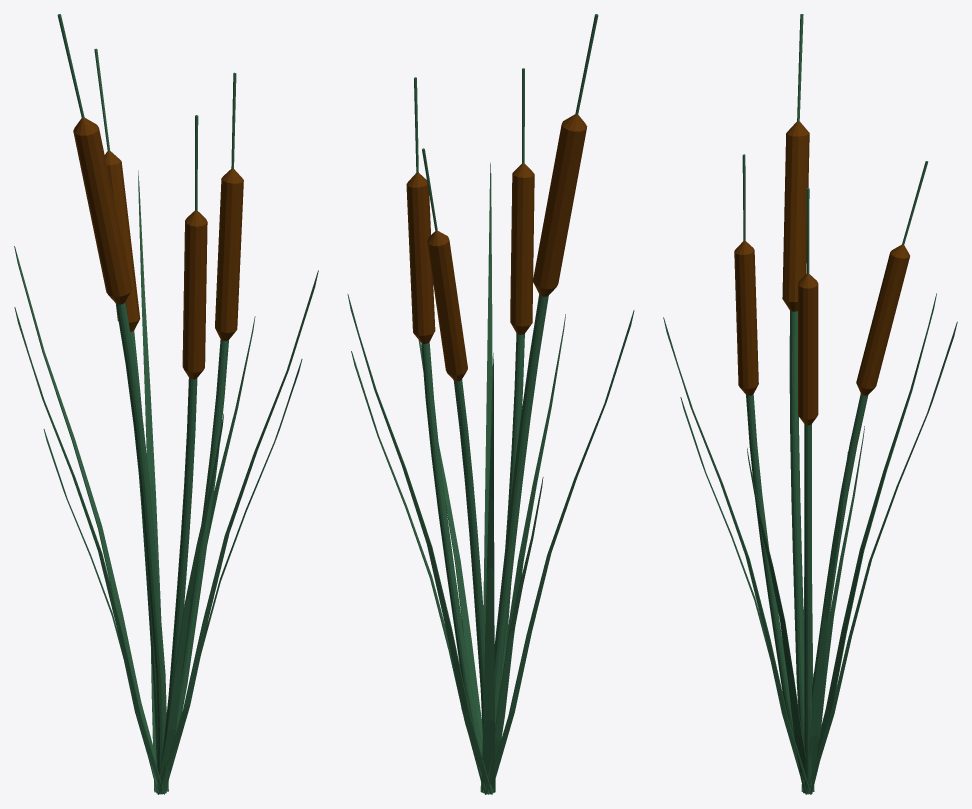
Rendered from mod_vg_reed.fbx.
3 views of the same model, side by side, from view 1: azimuth 30°, elevation 25°; view 2: azimuth 150°, elevation 25°; view 3: azimuth 270°, elevation 25° (orthographic). The views are drawn at different scales.
Visible parts, largest first — view 1: tige4, fleur, fleur3, fleur2, fleur4; view 2: tige4, fleur, fleur2, fleur3, fleur4; view 3: tige4, fleur, fleur4, fleur2, fleur3.
Boxes of the visible parts, x1=… form: tige4: x1=14, y1=170, x2=318, y2=794; fleur: x1=57, y1=14, x2=131, y2=304; fleur3: x1=215, y1=72, x2=243, y2=340; fleur2: x1=182, y1=115, x2=207, y2=379; fleur4: x1=94, y1=48, x2=140, y2=331; tige4: x1=347, y1=162, x2=634, y2=794; fleur: x1=532, y1=14, x2=598, y2=296; fleur2: x1=510, y1=68, x2=534, y2=334; fleur3: x1=406, y1=77, x2=435, y2=343; fleur4: x1=422, y1=148, x2=467, y2=381; tige4: x1=663, y1=293, x2=957, y2=794; fleur: x1=782, y1=14, x2=809, y2=311; fleur4: x1=856, y1=161, x2=928, y2=395; fleur2: x1=734, y1=154, x2=758, y2=395; fleur3: x1=798, y1=188, x2=818, y2=425.
Size of the model in its own units: 37.21 by 109 by 39.74.
